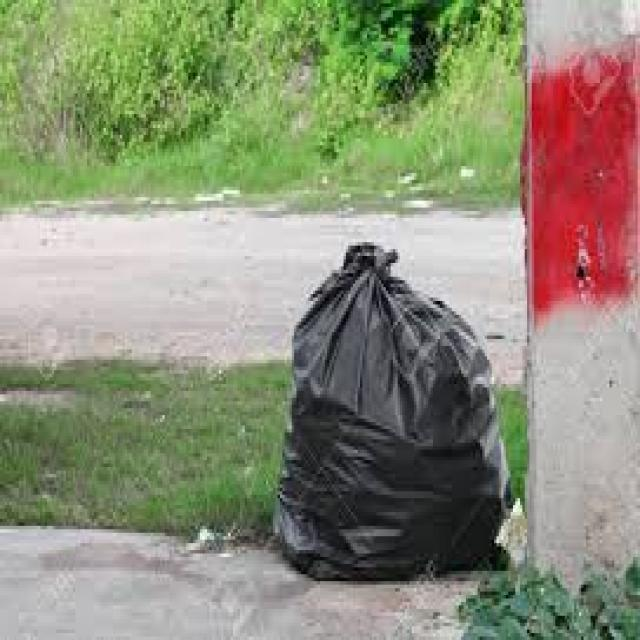garbage: (252, 235, 529, 588)
